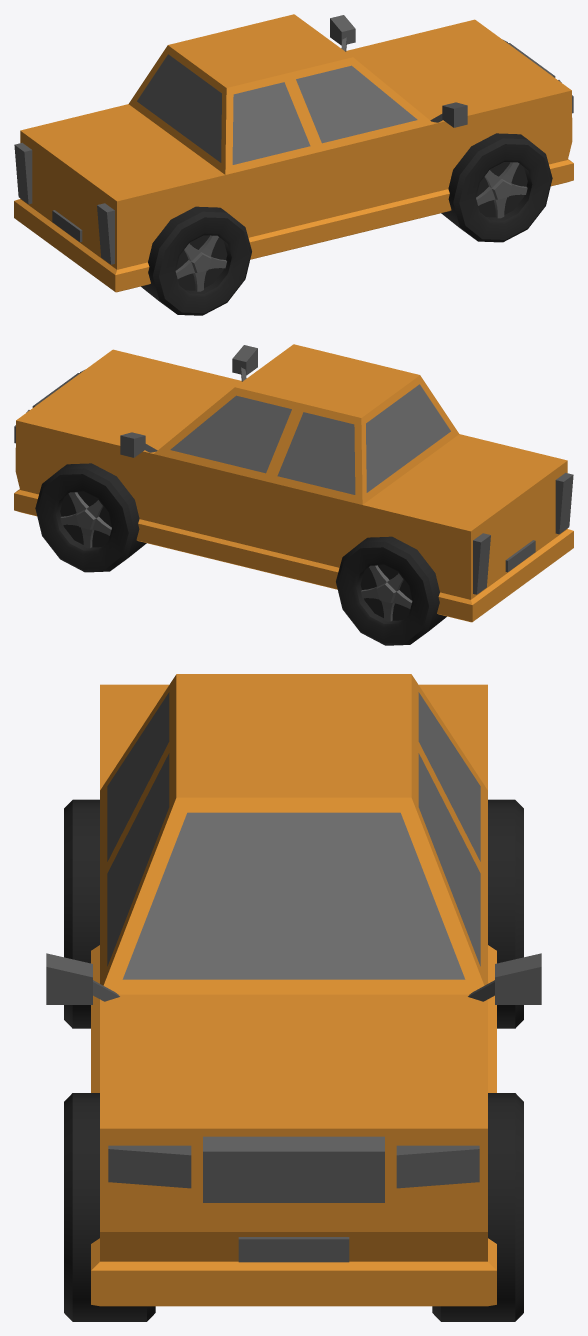
File: Car03.fbx
The picture shows the model from 3 angles, top to bottom: view 1: azimuth 30°, elevation 25°; view 2: azimuth 150°, elevation 25°; view 3: azimuth 270°, elevation 25°; orthographic projection. The views are drawn at different scales.
Visible parts, largest first — view 1: Car_03; view 2: Car_03; view 3: Car_03.
Boxes of the visible parts, box(x1,y1,x2,y2) form: Car_03: box(14, 14, 573, 315); Car_03: box(14, 344, 573, 645); Car_03: box(46, 674, 541, 1321).
Size of the model in its own units: 18.2 by 7.22 by 8.25.
